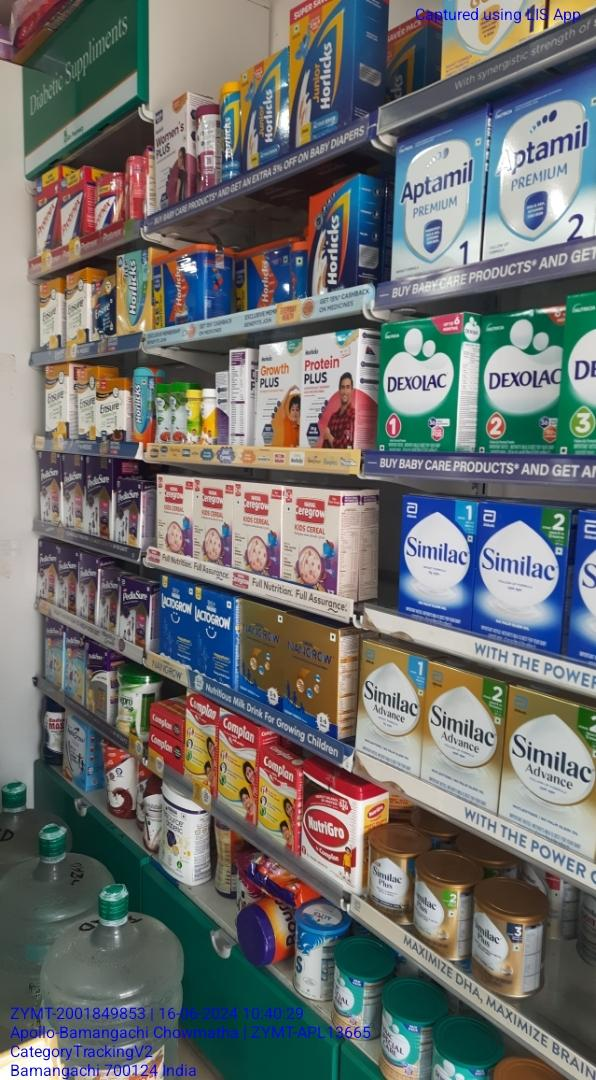HORLICKS_LITE_REGULAR_MALT_500_GM_JAR: (135, 361, 156, 443)
HORLICK_MALT_1_KG_CONTAINER: (235, 250, 289, 309)
